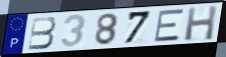3: (59, 13, 89, 49)
7: (122, 10, 153, 46)
8: (94, 12, 120, 47)
B: (27, 16, 57, 52)
E: (153, 8, 185, 43)
H: (183, 4, 219, 42)
